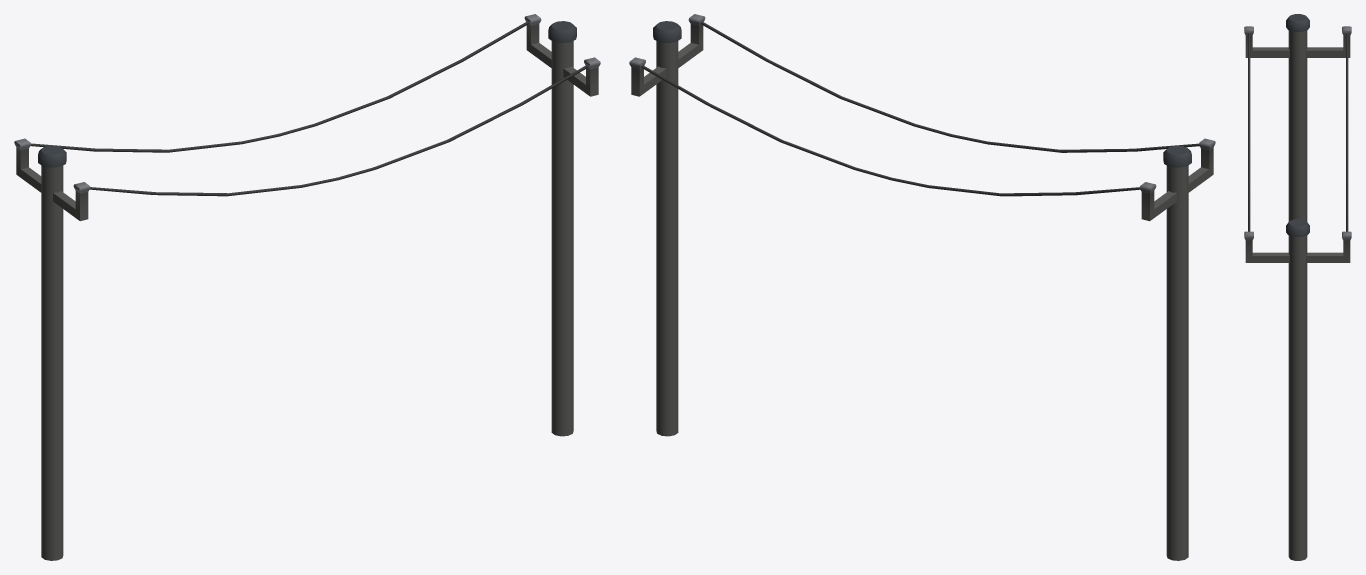
The model's file is Power Transmission Lamp_1.fbx.
3 views of the same model, side by side, from view 1: azimuth 30°, elevation 25°; view 2: azimuth 150°, elevation 25°; view 3: azimuth 270°, elevation 25° (orthographic). The views are drawn at different scales.
Parts seen in each view (by area): view 1: Power Transmission Lamp_1; view 2: Power Transmission Lamp_1; view 3: Power Transmission Lamp_1.
Part boxes in pixels (x1,y1,x2,y2): Power Transmission Lamp_1: (14,14,600,560); Power Transmission Lamp_1: (629,14,1215,560); Power Transmission Lamp_1: (1244,14,1351,560).
Size of the model in its own units: 527 by 383 by 111.
